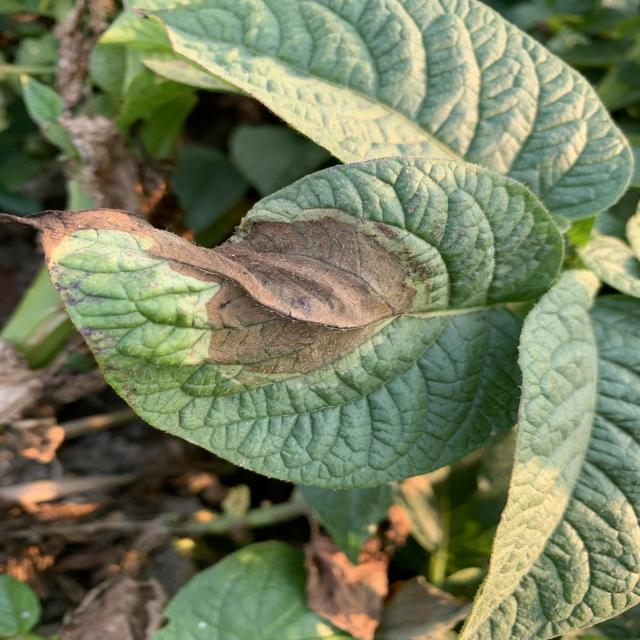lateblight: (3, 209, 417, 374)
